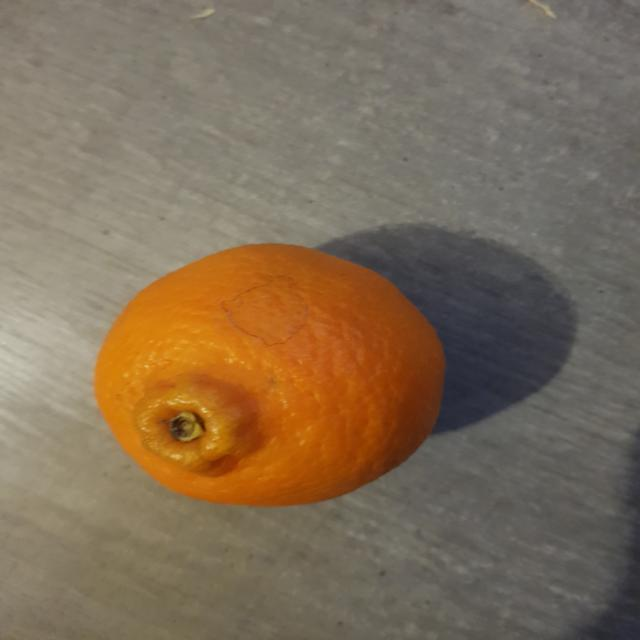Orange: (92, 244, 448, 510)
